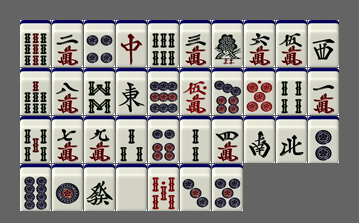0m: (180, 68, 211, 115)
0p: (244, 68, 275, 115)
0s: (148, 164, 179, 211)
1m: (308, 68, 339, 115)
1p: (52, 164, 83, 211)
1s: (212, 20, 243, 67)
1z: (116, 68, 147, 115)
2m: (52, 20, 83, 67)
2p: (308, 116, 339, 163)
2s: (180, 116, 211, 163)
2z: (244, 116, 275, 163)
3m: (180, 20, 211, 67)
3p: (180, 164, 211, 211)
3s: (116, 116, 147, 163)
3z: (308, 20, 339, 67)
4m: (212, 116, 243, 163)
4p: (84, 20, 115, 67)
4s: (276, 68, 307, 115)
4z: (276, 116, 307, 163)
5m: (276, 20, 307, 67)
5p: (212, 164, 243, 211)
5s: (20, 116, 51, 163)
5z: (116, 164, 147, 211)
6m: (244, 20, 275, 67)
6p: (148, 116, 179, 163)
6s: (148, 20, 179, 67)
6z: (84, 164, 115, 211)
7m: (52, 116, 83, 163)
7p: (212, 68, 243, 115)
7s: (20, 68, 51, 115)
7z: (116, 20, 147, 67)
8m: (52, 68, 83, 115)
8p: (20, 164, 51, 211)
8s: (84, 68, 115, 115)
9m: (84, 116, 115, 163)
9p: (148, 68, 179, 115)
9s: (20, 20, 51, 67)
